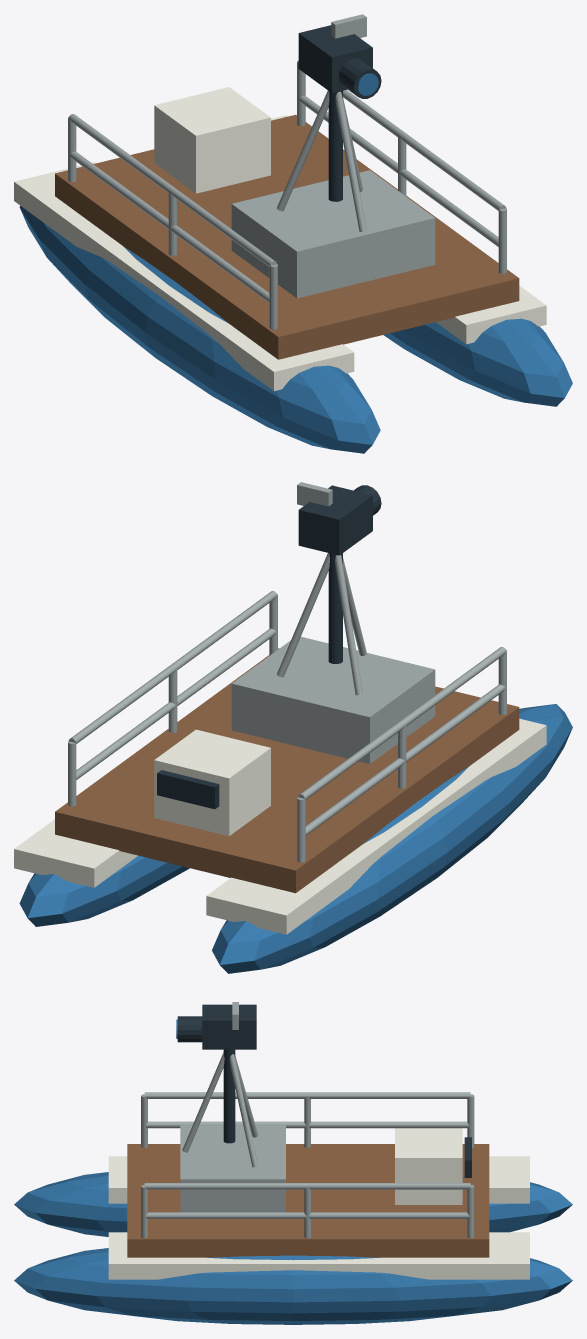
The model's file is scendance-plan-camera-boat-catamaran.glb.
3 renders of one model, top to bottom at view 1: azimuth 30°, elevation 25°; view 2: azimuth 150°, elevation 25°; view 3: azimuth 270°, elevation 25°, orthographic. The views are drawn at different scales.
Size of the model in its own units: 2.3 by 2.51 by 4.54.
